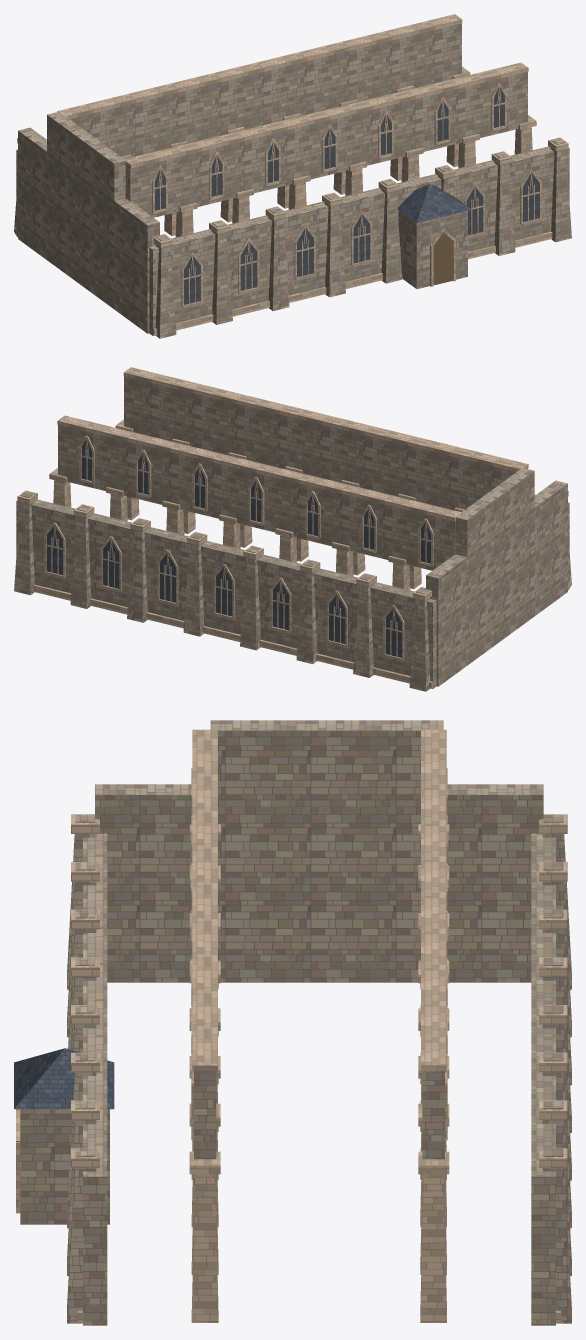
The picture shows the model from 3 angles, top to bottom: view 1: azimuth 30°, elevation 25°; view 2: azimuth 150°, elevation 25°; view 3: azimuth 270°, elevation 25°; orthographic projection. The views are drawn at different scales.
Visible parts, largest first — view 1: Nave north clerestory wall001, Nave south aisle wall001, Nave west front001, Nave south clerestory wall001, Nave South clerestory wallhead coping001, Nave North clerestory wallhead coping001, South porch south wall001, Nave south plinth course001, South porch pitched roof001, Nave South buttress 009, Nave South buttress 003, Nave South buttress 004 (+20 smaller); view 2: Nave north aisle wall001, Nave south clerestory wall001, Nave west front001, Nave north clerestory wall001, Nave North clerestory wallhead coping001, Nave South clerestory wallhead coping001, Nave north plinth course001, Nave North buttress 007, Nave North buttress 009, Nave North buttress 003, Nave North buttress 004, Nave North buttress 005 (+17 smaller); view 3: Nave west front001, Nave south aisle wall001, Nave north aisle wall001, Nave North clerestory wallhead coping001, Nave South clerestory wallhead coping001, South porch east cheek001, South porch pitched roof001, Nave South inner arcade pier 009, Nave North inner arcade pier 009, Nave South buttress 009, Nave North buttress 009, Nave south clerestory wall001 (+13 smaller).
Boxes of the visible parts, x1,y1,x2,y2 form: Nave north clerestory wall001: [70, 23, 461, 157]; Nave south aisle wall001: [149, 146, 569, 335]; Nave west front001: [18, 112, 159, 333]; Nave south clerestory wall001: [125, 72, 527, 217]; Nave South clerestory wallhead coping001: [124, 62, 528, 168]; Nave North clerestory wallhead coping001: [57, 14, 462, 118]; South porch south wall001: [411, 211, 467, 288]; Nave south plinth course001: [150, 231, 552, 335]; South porch pitched roof001: [397, 184, 471, 223]; Nave South buttress 009: [550, 138, 571, 242]; Nave South buttress 003: [211, 221, 232, 324]; Nave South buttress 004: [268, 207, 289, 310]; Nave north aisle wall001: [16, 499, 436, 688]; Nave south clerestory wall001: [124, 376, 527, 510]; Nave west front001: [426, 468, 567, 686]; Nave north clerestory wall001: [58, 425, 455, 570]; Nave North clerestory wallhead coping001: [57, 415, 461, 521]; Nave South clerestory wallhead coping001: [123, 367, 528, 471]; Nave north plinth course001: [33, 584, 435, 688]; Nave North buttress 007: [127, 519, 148, 622]; Nave North buttress 009: [14, 491, 35, 595]; Nave North buttress 003: [353, 574, 374, 677]; Nave North buttress 004: [296, 560, 317, 663]; Nave North buttress 005: [240, 546, 261, 650]; Nave west front001: [95, 720, 543, 982]; Nave south aisle wall001: [83, 833, 107, 1325]; Nave north aisle wall001: [531, 833, 555, 1325]; Nave North clerestory wallhead coping001: [421, 729, 446, 1072]; Nave South clerestory wallhead coping001: [192, 729, 217, 1072]; South porch east cheek001: [20, 1109, 109, 1224]; South porch pitched roof001: [14, 1048, 114, 1109]; Nave South inner arcade pier 009: [191, 1174, 218, 1322]; Nave North inner arcade pier 009: [420, 1174, 446, 1322]; Nave South buttress 009: [67, 1148, 96, 1323]; Nave North buttress 009: [542, 1148, 571, 1323]; Nave south clerestory wall001: [194, 1071, 216, 1159].
Bounding box in the file's own units: 39.17 × 13.02 × 26.13.
Materials: 5 (3 with a texture image).
